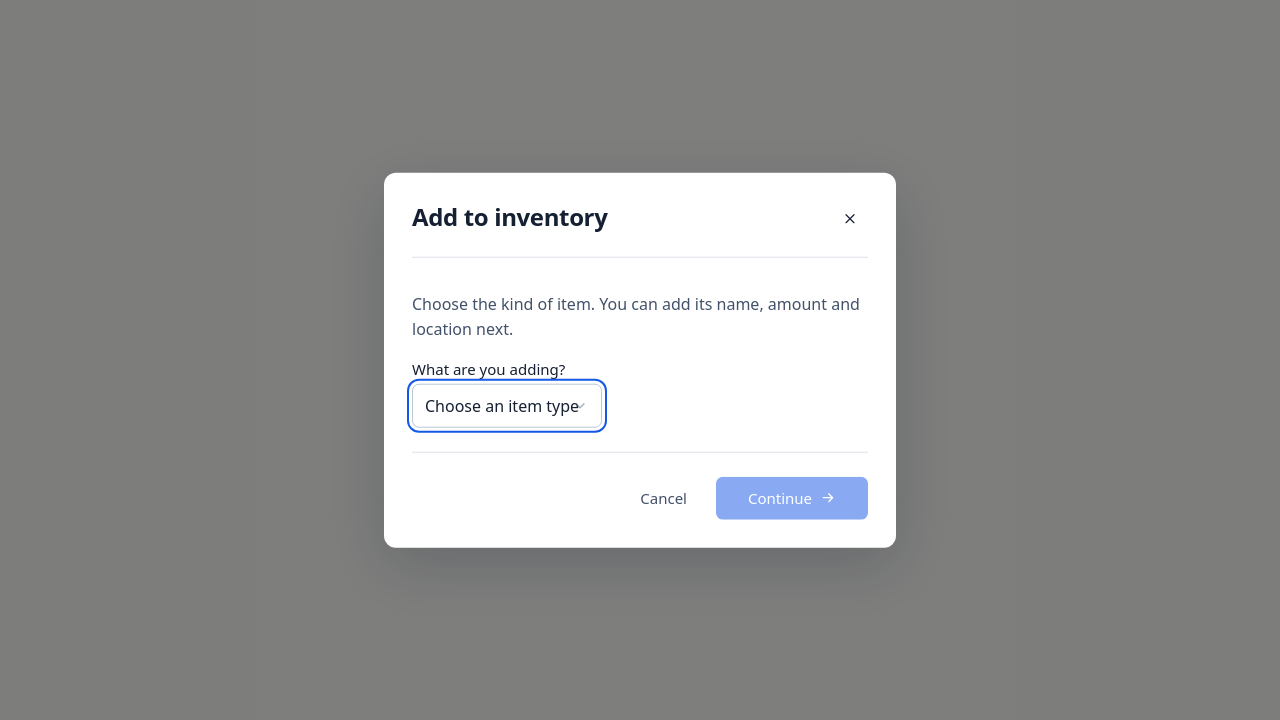
it: allows an active category when the usual category is archived
Select "Electronic component" in the dropdown labelled "What are you adding?": x=507, y=405 [412,383,602,427]
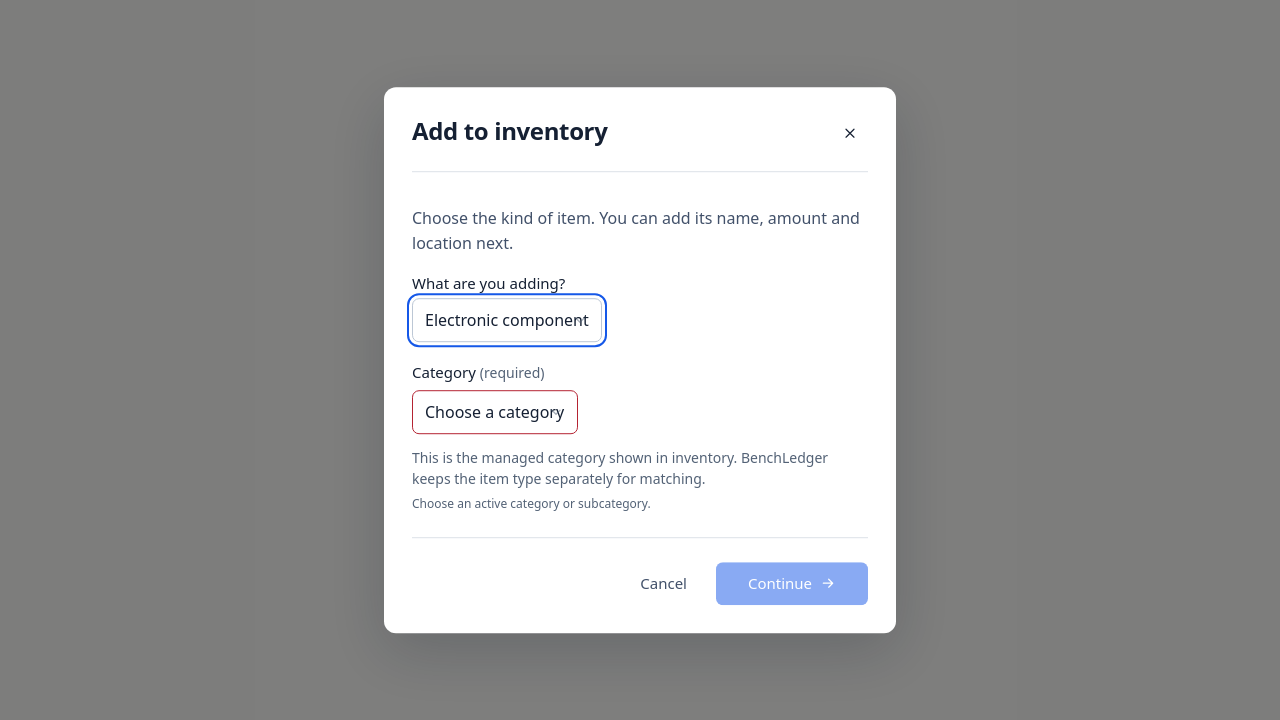
Now the dropdown labelled "Category" is enabled
Select "Tools" in the dropdown labelled "Category": x=495, y=412 [412,390,578,434]
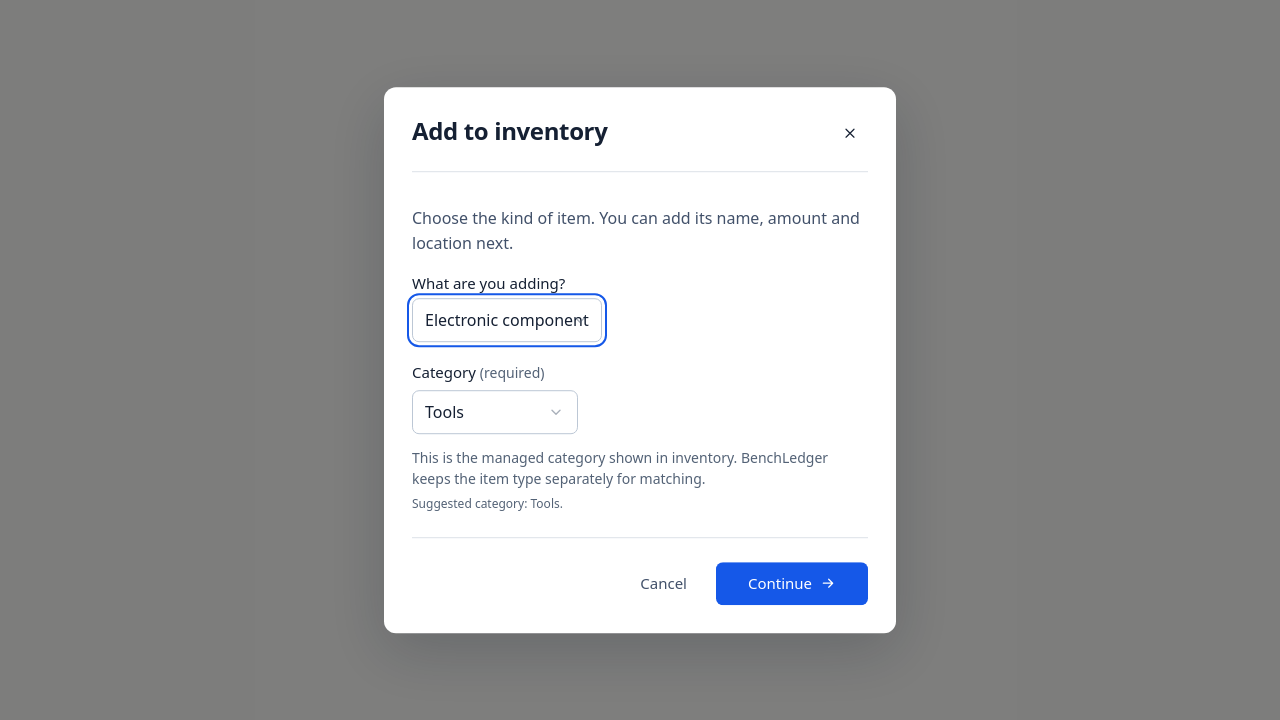
Click the button "Continue": x=792, y=583 [716,562,868,605]
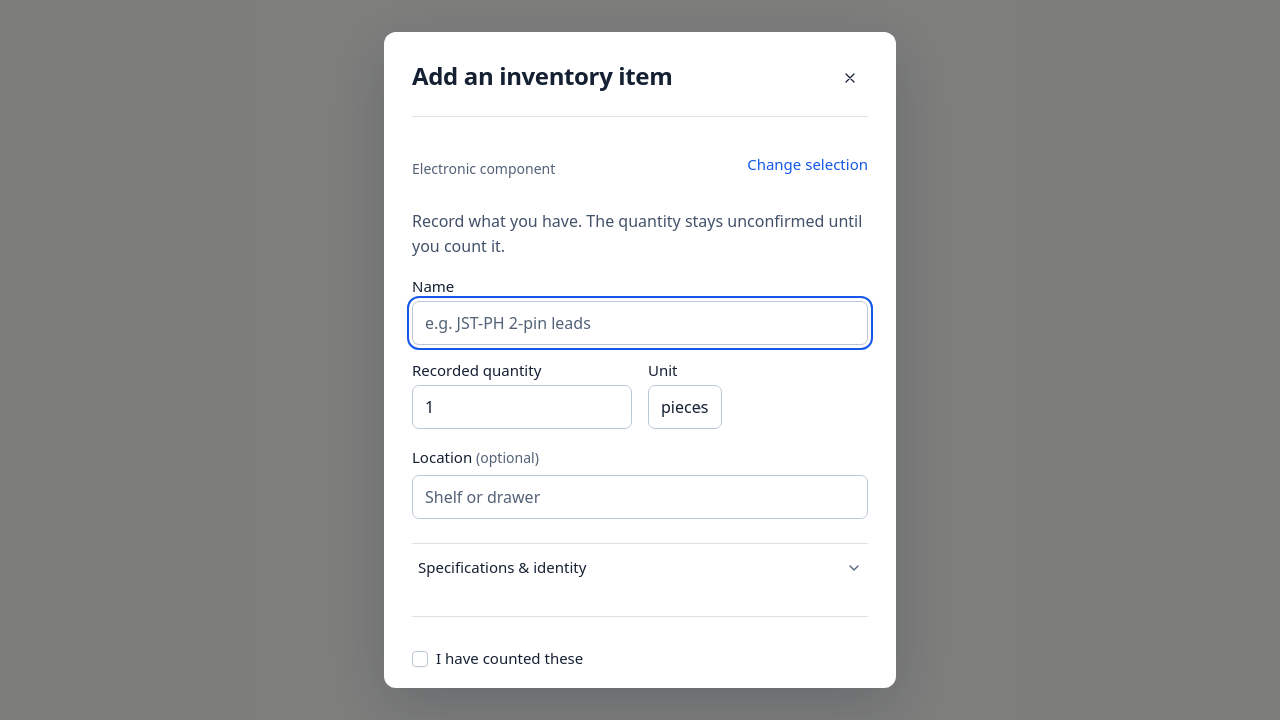
Now the field labelled "Name" is shown, box [412,301,868,345]
